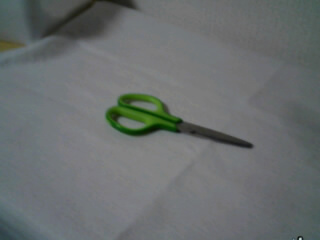003_classes: (99, 88, 255, 158)
